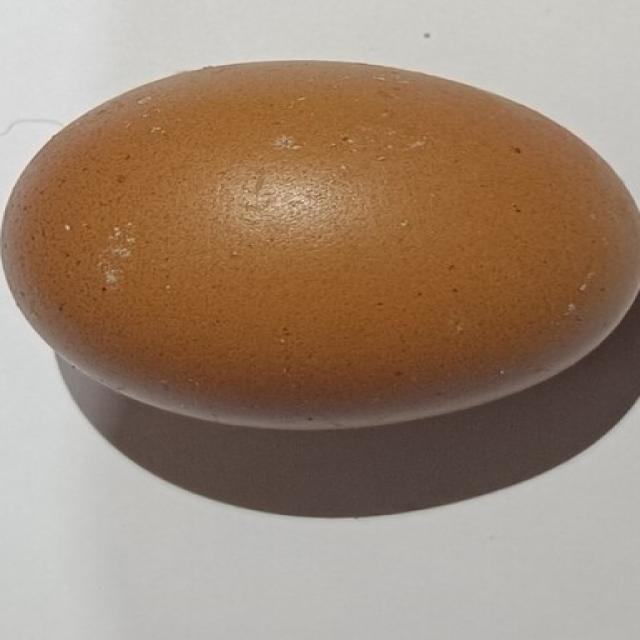unfresh: (6, 58, 640, 421)
